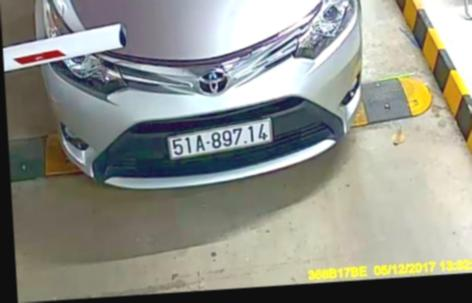License_Plate: (166, 118, 275, 160)
